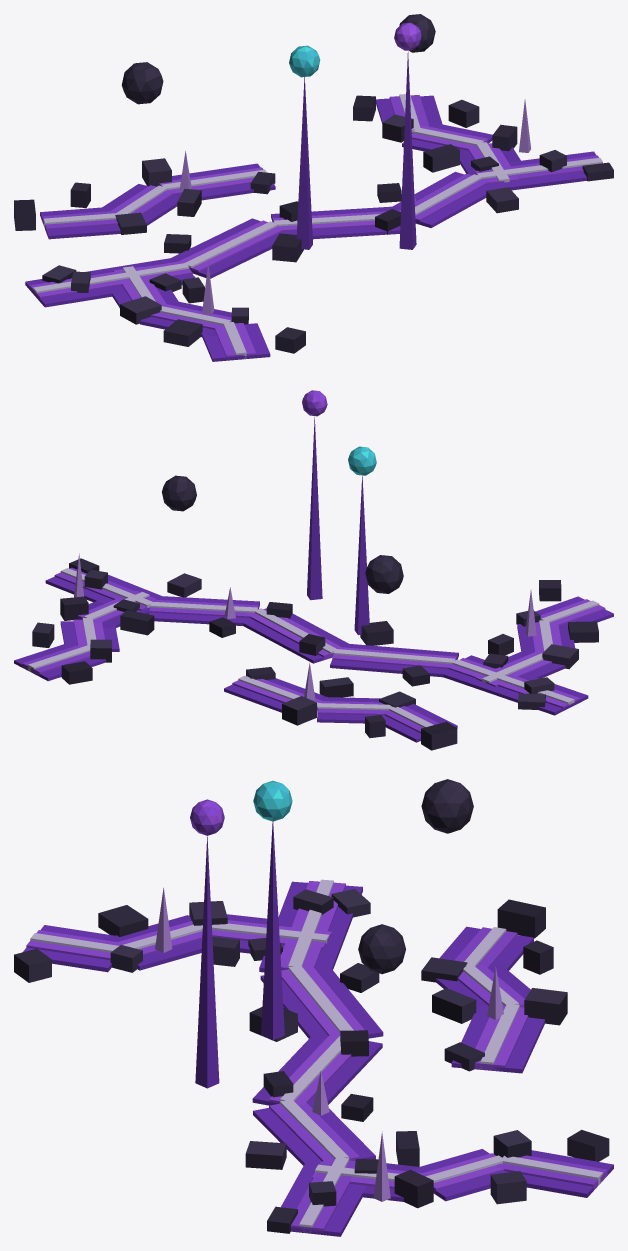
Rendered from Decor_VoidPortal_Rift.fbx.
The picture shows the model from 3 angles, top to bottom: view 1: azimuth 30°, elevation 25°; view 2: azimuth 150°, elevation 25°; view 3: azimuth 270°, elevation 25°; orthographic projection. The views are drawn at different scales.
Visible parts, largest first — view 1: Rift_Body; view 2: Rift_Body; view 3: Rift_Body.
Boxes of the visible parts, x1,y1,x2,y2 form: Rift_Body: (14, 14, 613, 361); Rift_Body: (14, 390, 613, 750); Rift_Body: (14, 779, 613, 1236).
Bounding box in the file's own units: 36 × 13.8 × 26.
